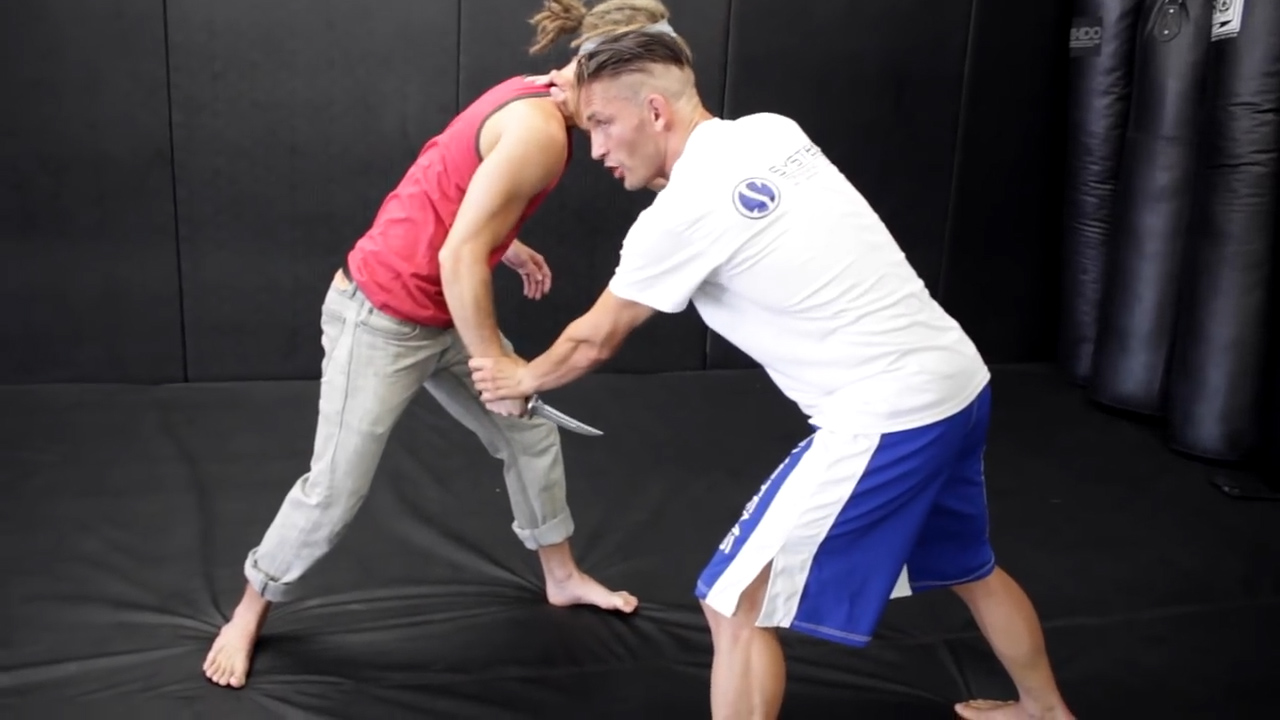knife: (472, 379, 620, 449)
